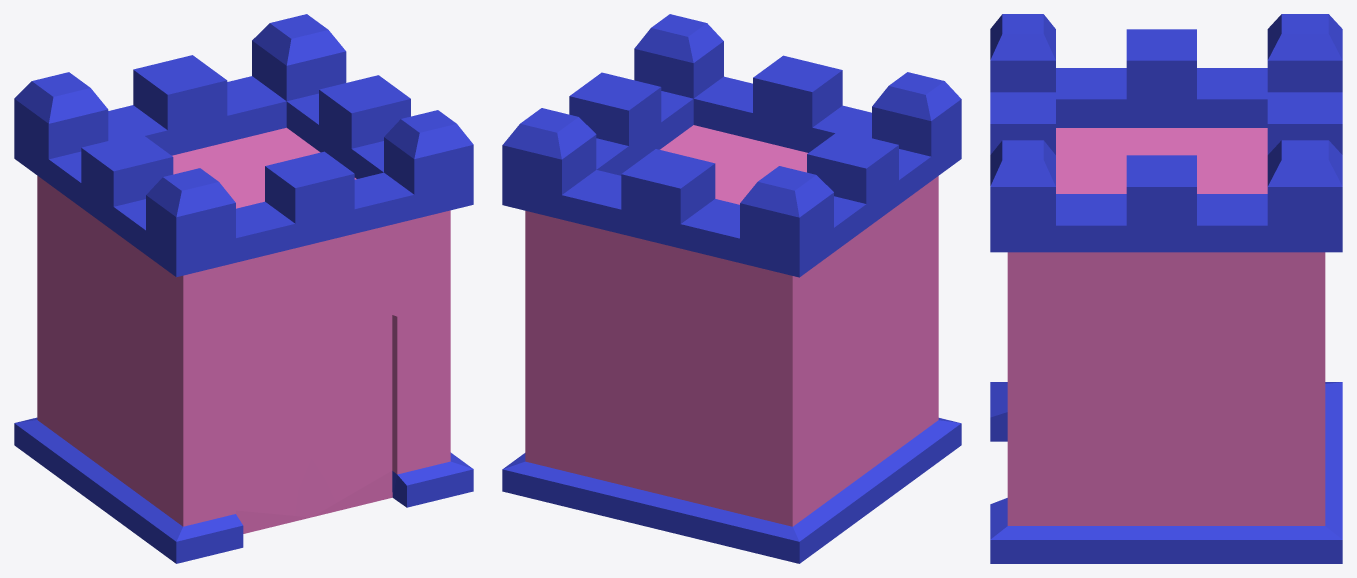
Rendered from ForestCastle.fbx.
3 renders of one model, left to right at view 1: azimuth 30°, elevation 25°; view 2: azimuth 150°, elevation 25°; view 3: azimuth 270°, elevation 25°, orthographic. The views are drawn at different scales.
Parts seen in each view (by area): view 1: ForestCastle; view 2: ForestCastle; view 3: ForestCastle.
Boxes of the visible parts, left/top/right/bottom form: ForestCastle: left=14, top=14, right=473, bottom=563; ForestCastle: left=502, top=14, right=961, bottom=563; ForestCastle: left=990, top=14, right=1342, bottom=563.
Bounding box in the file's own units: 593 × 698 × 560.
